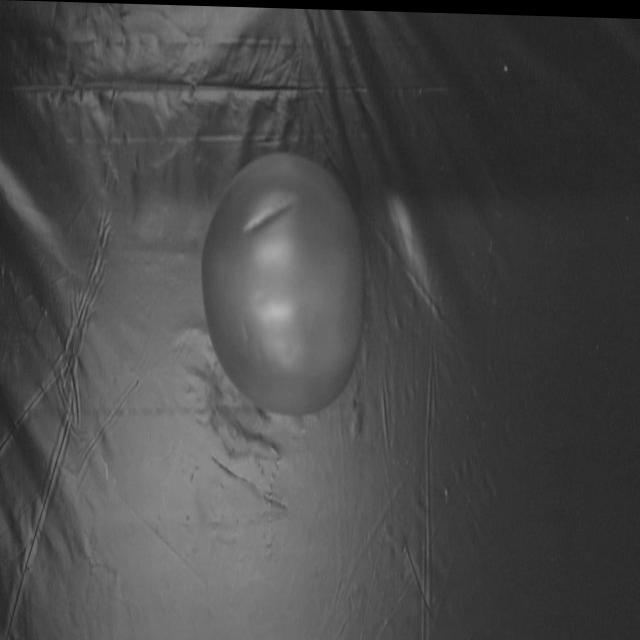kirmizi: (196, 126, 384, 443)
